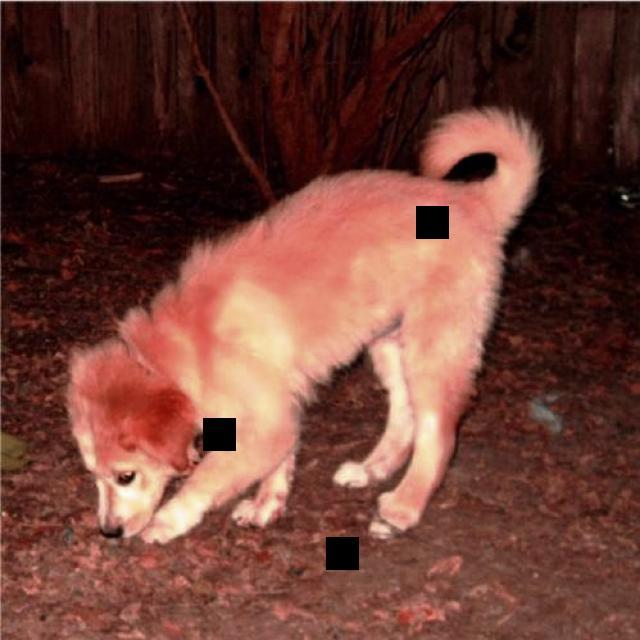adult_dog: (59, 103, 550, 550)
